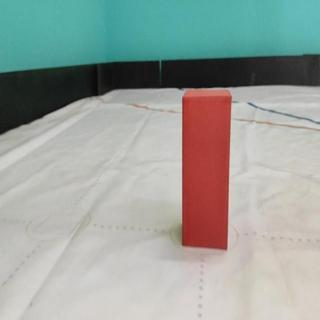redbox: (182, 87, 229, 248)
